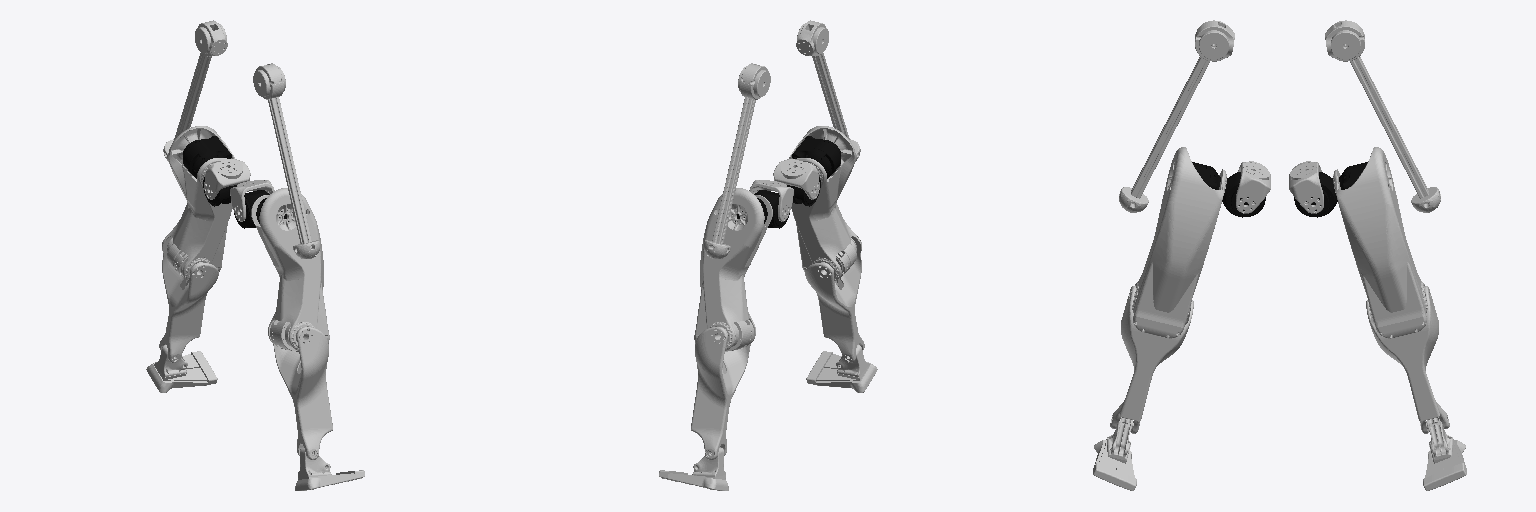
--- What the picture shows (computed from the rendered views, not written in the file) ---
Views: 3 orthographic renders of the robot side by side, from view 1: azimuth 30°, elevation 25°; view 2: azimuth 150°, elevation 25°; view 3: azimuth 270°, elevation 25°.
Robot: nimbro_new — 45 links, 44 joints (36 continuous, 8 fixed); root link trunk_link; default pose: all joints at 0.
Links seen in each view (by area): view 1: parallel_right_thigh_front_link, parallel_left_thigh_front_link, parallel_right_shank_front_link, parallel_left_shank_front_link, right_shoulder_pitch_link, left_shoulder_pitch_link, parallel_left_ankle_link, left_hip_roll_link, parallel_right_ankle_link, left_hip_yaw_link, right_hip_yaw_link; view 2: parallel_left_thigh_front_link, parallel_right_thigh_front_link, parallel_left_shank_front_link, parallel_right_shank_front_link, left_shoulder_pitch_link, right_shoulder_pitch_link, parallel_right_ankle_link, right_hip_roll_link, parallel_left_ankle_link, right_hip_yaw_link, left_hip_yaw_link; view 3: parallel_right_thigh_front_link, parallel_left_thigh_front_link, parallel_right_shank_front_link, parallel_left_shank_front_link, right_shoulder_pitch_link, left_shoulder_pitch_link, parallel_right_ankle_link, parallel_left_ankle_link, right_hip_yaw_link, left_hip_yaw_link, right_hip_roll_link, left_hip_roll_link.
Link boxes in pixels (x1,y1,x2,y2): parallel_right_thigh_front_link: [251, 188, 328, 350]; parallel_left_thigh_front_link: [162, 126, 234, 280]; parallel_right_shank_front_link: [273, 327, 332, 459]; parallel_left_shank_front_link: [159, 238, 221, 362]; right_shoulder_pitch_link: [253, 63, 319, 258]; left_shoulder_pitch_link: [163, 20, 227, 161]; parallel_left_ankle_link: [146, 345, 217, 392]; left_hip_roll_link: [183, 136, 236, 206]; parallel_right_ankle_link: [295, 447, 364, 490]; left_hip_yaw_link: [204, 159, 250, 199]; right_hip_yaw_link: [230, 180, 274, 221]; parallel_left_thigh_front_link: [695, 188, 772, 350]; parallel_right_thigh_front_link: [789, 126, 861, 280]; parallel_left_shank_front_link: [691, 327, 750, 459]; parallel_right_shank_front_link: [802, 238, 864, 362]; left_shoulder_pitch_link: [704, 63, 770, 258]; right_shoulder_pitch_link: [796, 20, 860, 161]; parallel_right_ankle_link: [806, 345, 877, 392]; right_hip_roll_link: [787, 136, 840, 206]; parallel_left_ankle_link: [659, 447, 728, 490]; right_hip_yaw_link: [773, 159, 819, 199]; left_hip_yaw_link: [749, 180, 793, 221]; parallel_right_thigh_front_link: [1132, 147, 1226, 327]; parallel_left_thigh_front_link: [1333, 147, 1427, 327]; parallel_right_shank_front_link: [1110, 286, 1193, 433]; parallel_left_shank_front_link: [1366, 286, 1449, 433]; right_shoulder_pitch_link: [1119, 20, 1234, 212]; left_shoulder_pitch_link: [1325, 20, 1440, 212]; parallel_right_ankle_link: [1093, 417, 1136, 490]; parallel_left_ankle_link: [1423, 417, 1466, 490]; right_hip_yaw_link: [1236, 161, 1270, 213]; left_hip_yaw_link: [1289, 161, 1323, 213]; right_hip_roll_link: [1192, 162, 1265, 217]; left_hip_roll_link: [1294, 162, 1367, 217].
Bounding box of the posed robot: 0.174 × 0.7334 × 0.9643 m (x, y, z).
14 mesh visuals loaded from 8 distinct referenced files (7 binary STL); not drawn: 1 (reference not matched to a file when rendering).

robot.urdf — nimbro_new:
<?xml version="1.0" ?>
<!-- =================================================================================== -->
<!-- |    This document was autogenerated by xacro from nimbro_new.xacro               | -->
<!-- |    EDITING THIS FILE BY HAND IS NOT RECOMMENDED                                 | -->
<!-- =================================================================================== -->
<robot name="nimbro_new">
  <!-- Materials -->
  <material name="black">
    <color rgba="0.1 0.1 0.1 1"/>
  </material>
  <material name="white">
    <color rgba="0.8 0.8 0.8 1"/>
  </material>
  <material name="clear">
    <color rgba="1.0 1.0 1.0 0.0"/>
  </material>
  <material name="orange">
    <color rgba="1.0 0.4235294117647059 0.0392156862745098 1.0"/>
  </material>
  <!-- Joints and links -->
  <link name="trunk_link">
    <inertial>
      <origin rpy="0 0 0" xyz="-0.02658535 0 0.14500787"/>
      <mass value="5.20047716"/>
      <inertia ixx="0.07326504" ixy="0.0" ixz="0.0" iyy="0.07407370" iyz="0.0" izz="0.02367380"/>
    </inertial>
    <visual>
      <origin rpy="0 0 0 " xyz="0 0 0"/>
      <geometry>
        <mesh filename="package://nimbro_op_model/mesh/nimbro_new/trunk_link.STL"/>
      </geometry>
      <material name="white"/>
    </visual>
    <collision>
      <origin rpy="0 0 0" xyz="0 0 0"/>
      <geometry>
        <mesh filename="package://nimbro_op_model/mesh/nimbro_new/trunk_link.STL"/>
      </geometry>
    </collision>
  </link>
  <link name="right_hip_yaw_link">
    <inertial>
      <origin rpy="0 0 0" xyz="0 0.00724195 -0.02181654"/>
      <mass value="0.08195131"/>
      <inertia ixx="0.00005602" ixy="0.0" ixz="-0.00000001" iyy="0.00011377" iyz="0.00000334" izz="0.00010391"/>
    </inertial>
    <visual>
      <origin rpy="0 0 0" xyz="0 0 0"/>
      <geometry>
        <mesh filename="package://nimbro_op_model/mesh/nimbro_new/left_hip_yaw_link.STL" scale="1.0 -1.0 1.0"/>
      </geometry>
      <material name="white"/>
    </visual>
    <collision>
      <origin rpy="0 0 0" xyz="0 0 0"/>
      <geometry>
        <mesh filename="package://nimbro_op_model/mesh/nimbro_new/left_hip_yaw_link.STL" scale="1.0 -1.0 1.0"/>
      </geometry>
    </collision>
  </link>
  <joint name="right_hip_yaw" type="continuous">
    <origin rpy="-0.261799388 0 0" xyz="0 -0.051355805 -0.01071788"/>
    <parent link="trunk_link"/>
    <child link="right_hip_yaw_link"/>
    <axis xyz="0 0 1"/>
  </joint>
  <link name="right_hip_roll_link">
    <inertial>
      <origin rpy="0 0 0" xyz="0.00076574 -0.05251558 0.00065619"/>
      <mass value="1.43634161"/>
      <inertia ixx="0.00462564" ixy="-0.00008808" ixz="-0.00001887" iyy="0.00094964" iyz="0.00002958" izz="0.00464908"/>
    </inertial>
    <visual>
      <origin rpy="0 0 0" xyz="0 0 0"/>
      <geometry>
        <mesh filename="package://nimbro_op_model/mesh/nimbro_new/left_hip_link.STL" scale="1.0 -1.0 1.0"/>
      </geometry>
      <material name="black"/>
    </visual>
    <collision>
      <origin rpy="0 0 0" xyz="0 0 0"/>
      <geometry>
        <mesh filename="package://nimbro_op_model/mesh/nimbro_new/left_hip_link.STL" scale="1.0 -1.0 1.0"/>
      </geometry>
    </collision>
  </link>
  <joint name="right_hip_roll" type="continuous">
    <origin rpy="0 0 0" xyz="0 0 -0.057408771126"/>
    <parent link="right_hip_yaw_link"/>
    <child link="right_hip_roll_link"/>
    <axis xyz="1 0 0"/>
  </joint>
  <link name="right_thigh_link">
    <inertial>
      <origin rpy="0 0 0" xyz="0.01970977 0.00209924 -0.12743050"/>
      <mass value="0.45418350"/>
      <inertia ixx="0.00608556" ixy="-0.00000866" ixz="0.00001934" iyy="0.00585037" iyz="-0.00010098" izz="0.00141334"/>
    </inertial>
    <!-- Use parallel link visuals<visual>
				<origin xyz="0 0 0" rpy="0 0 0" />
				<geometry>
					<mesh filename="package://nimbro_op_model/mesh/${display_variant}/right_thigh_link.STL" />
				</geometry>
				<material name="white" />
			</visual>-->
    <collision>
      <origin rpy="0 0 0" xyz="0 0 0"/>
      <geometry>
        <mesh filename="package://nimbro_op_model/mesh/nimbro_new/left_thigh_link.STL" scale="1.0 -1.0 1.0"/>
      </geometry>
    </collision>
  </link>
  <joint name="right_hip_pitch" type="continuous">
    <origin rpy="0 0 0" xyz="-0.00255 -0.1014 0"/>
    <parent link="right_hip_roll_link"/>
    <child link="right_thigh_link"/>
    <axis xyz="0 1 0"/>
  </joint>
  <link name="right_shank_link">
    <inertial>
      <origin rpy="0 0 0" xyz="0.01748220 0.00011553 -0.10458745"/>
      <mass value="0.31908091"/>
      <inertia ixx="0.00321630" ixy="-0.00000043" ixz="-0.00009814" iyy="0.00296736" iyz="-0.00000589" izz="0.00064089"/>
    </inertial>
    <!-- Use parallel link visuals<visual>
				<origin xyz="0 0 0" rpy="0 0 0" />
				<geometry>
					<mesh filename="package://nimbro_op_model/mesh/${display_variant}/right_shank_link.STL" />
				</geometry>
				<material name="white" />
			</visual>-->
    <collision>
      <origin rpy="0 0 0" xyz="0 0 0"/>
      <geometry>
        <mesh filename="package://nimbro_op_model/mesh/nimbro_new/left_shank_link.STL" scale="1.0 -1.0 1.0"/>
      </geometry>
    </collision>
  </link>
  <joint name="right_knee_pitch" type="continuous">
    <origin rpy="0 0 0" xyz="0 0 -0.27"/>
    <parent link="right_thigh_link"/>
    <child link="right_shank_link"/>
    <axis xyz="0 1 0"/>
  </joint>
  <link name="right_ankle_link">
    <inertial>
      <origin rpy="0 0 0" xyz="0.02809098 -0.00090749 -0.06129945"/>
      <mass value="0.27529515"/>
      <inertia ixx="0.00020315" ixy="0.00000109" ixz="0.00008239" iyy="0.00050134" iyz="0.00001126" izz="0.00049365"/>
    </inertial>
    <!-- Use parallel link visuals<visual>
				<origin xyz="0 0 0" rpy="0 0 0" />
				<geometry>
					<mesh filename="package://nimbro_op_model/mesh/${display_variant}/right_ankle_link.STL" />
				</geometry>
				<material name="white" />
			</visual>-->
    <collision>
      <origin rpy="0 0 0" xyz="0 0 0"/>
      <geometry>
        <mesh filename="package://nimbro_op_model/mesh/nimbro_new/left_ankle_link.STL" scale="1.0 -1.0 1.0"/>
      </geometry>
    </collision>
  </link>
  <joint name="right_ankle_pitch" type="continuous">
    <origin rpy="0 0 0" xyz="0 0 -0.27"/>
    <parent link="right_shank_link"/>
    <child link="right_ankle_link"/>
    <axis xyz="0 1 0"/>
  </joint>
  <link name="right_foot_link">
		</link>
  <joint name="right_ankle_roll" type="continuous">
    <origin rpy="0 0 0" xyz="0 0 0"/>
    <parent link="right_ankle_link"/>
    <child link="right_foot_link"/>
    <axis xyz="1 0 0"/>
  </joint>
  <link name="right_foot_plane_link">
		</link>
  <joint name="right_foot_plane_joint" type="fixed">
    <origin rpy="0 0 0" xyz="0.04562 0 -0.055"/>
    <parent link="right_foot_link"/>
    <child link="right_foot_plane_link"/>
  </joint>
  <link name="left_hip_yaw_link">
    <inertial>
      <origin rpy="0 0 0" xyz="0 -0.00724195 -0.02181654"/>
      <mass value="0.08195131"/>
      <inertia ixx="0.00005602" ixy="0.0" ixz="-0.00000001" iyy="0.00011377" iyz="0.00000334" izz="0.00010391"/>
    </inertial>
    <visual>
      <origin rpy="0 0 0" xyz="0 0 0"/>
      <geometry>
        <mesh filename="package://nimbro_op_model/mesh/nimbro_new/left_hip_yaw_link.STL"/>
      </geometry>
      <material name="white"/>
    </visual>
    <collision>
      <origin rpy="0 0 0" xyz="0 0 0"/>
      <geometry>
        <mesh filename="package://nimbro_op_model/mesh/nimbro_new/left_hip_yaw_link.STL"/>
      </geometry>
    </collision>
  </link>
  <joint name="left_hip_yaw" type="continuous">
    <origin rpy="0.261799388 0 0" xyz="0 0.051355805 -0.01071788"/>
    <parent link="trunk_link"/>
    <child link="left_hip_yaw_link"/>
    <axis xyz="0 0 1"/>
  </joint>
  <link name="left_hip_roll_link">
    <inertial>
      <origin rpy="0 0 0" xyz="0.00076574 0.05251558 0.00065619"/>
      <mass value="1.43634161"/>
      <inertia ixx="0.00462564" ixy="0.00008808" ixz="-0.00001887" iyy="0.00094964" iyz="-0.00002958" izz="0.00464908"/>
    </inertial>
    <visual>
      <origin rpy="0 0 0" xyz="0 0 0"/>
      <geometry>
        <mesh filename="package://nimbro_op_model/mesh/nimbro_new/left_hip_link.STL"/>
      </geometry>
      <material name="black"/>
    </visual>
    <collision>
      <origin rpy="0 0 0" xyz="0 0 0"/>
      <geometry>
        <mesh filename="package://nimbro_op_model/mesh/nimbro_new/left_hip_link.STL"/>
      </geometry>
    </collision>
  </link>
  <joint name="left_hip_roll" type="continuous">
    <origin rpy="0 0 0" xyz="0 0 -0.057408771126"/>
    <parent link="left_hip_yaw_link"/>
    <child link="left_hip_roll_link"/>
    <axis xyz="1 0 0"/>
  </joint>
  <link name="left_thigh_link">
    <inertial>
      <origin rpy="0 0 0" xyz="0.01970977 -0.00209924 -0.12743050"/>
      <mass value="0.45418350"/>
      <inertia ixx="0.00608556" ixy="0.00000866" ixz="-0.00001934" iyy="0.00585037" iyz="0.00010098" izz="0.00141334"/>
    </inertial>
    <!-- Use parallel link visuals<visual>
				<origin xyz="0 0 0" rpy="0 0 0" />
				<geometry>
					<mesh filename="package://nimbro_op_model/mesh/${display_variant}/left_thigh_link.STL" />
				</geometry>
				<material name="white" />
			</visual>-->
    <collision>
      <origin rpy="0 0 0" xyz="0 0 0"/>
      <geometry>
        <mesh filename="package://nimbro_op_model/mesh/nimbro_new/left_thigh_link.STL"/>
      </geometry>
    </collision>
  </link>
  <joint name="left_hip_pitch" type="continuous">
    <origin rpy="0 0 0" xyz="-0.00255 0.1014 0"/>
    <parent link="left_hip_roll_link"/>
    <child link="left_thigh_link"/>
    <axis xyz="0 1 0"/>
  </joint>
  <link name="left_shank_link">
    <inertial>
      <origin rpy="0 0 0" xyz="0.01748220 -0.00011553 -0.10458745"/>
      <mass value="0.31908091"/>
      <inertia ixx="0.00321630" ixy="-0.00000043" ixz="-0.00009814" iyy="0.00296736" iyz="-0.00000589" izz="0.00064089"/>
    </inertial>
    <!-- Use parallel link visuals<visual>
				<origin xyz="0 0 0" rpy="0 0 0" />
				<geometry>
					<mesh filename="package://nimbro_op_model/mesh/${display_variant}/left_shank_link.STL" />
				</geometry>
				<material name="white" />
			</visual>-->
    <collision>
      <origin rpy="0 0 0" xyz="0 0 0"/>
      <geometry>
        <mesh filename="package://nimbro_op_model/mesh/nimbro_new/left_shank_link.STL"/>
      </geometry>
    </collision>
  </link>
  <joint name="left_knee_pitch" type="continuous">
    <origin rpy="0 0 0" xyz="0 0 -0.27"/>
    <parent link="left_thigh_link"/>
    <child link="left_shank_link"/>
    <axis xyz="0 1 0"/>
  </joint>
  <link name="left_ankle_link">
    <inertial>
      <origin rpy="0 0 0" xyz="0.02809098 0.00090749 -0.06129945"/>
      <mass value="0.27529515"/>
      <inertia ixx="0.00020316" ixy="-0.00000124" ixz="0.00008239" iyy="0.00050134" iyz="-0.00001107" izz="0.00049366"/>
    </inertial>
    <!-- Use parallel link visuals<visual>
				<origin xyz="0 0 0" rpy="0 0 0" />
				<geometry>
					<mesh filename="package://nimbro_op_model/mesh/${display_variant}/left_ankle_link.STL" />
				</geometry>
				<material name="white" />
			</visual>-->
    <collision>
      <origin rpy="0 0 0" xyz="0 0 0"/>
      <geometry>
        <mesh filename="package://nimbro_op_model/mesh/nimbro_new/left_ankle_link.STL"/>
      </geometry>
    </collision>
  </link>
  <joint name="left_ankle_pitch" type="continuous">
    <origin rpy="0 0 0" xyz="0 0 -0.27"/>
    <parent link="left_shank_link"/>
    <child link="left_ankle_link"/>
    <axis xyz="0 1 0"/>
  </joint>
  <link name="left_foot_link">
		</link>
  <joint name="left_ankle_roll" type="continuous">
    <origin rpy="0 0 0" xyz="0 0 0"/>
    <parent link="left_ankle_link"/>
    <child link="left_foot_link"/>
    <axis xyz="1 0 0"/>
  </joint>
  <link name="left_foot_plane_link">
		</link>
  <joint name="left_foot_plane_joint" type="fixed">
    <origin rpy="0 0 0" xyz="0.04562 0 -0.055"/>
    <parent link="left_foot_link"/>
    <child link="left_foot_plane_link"/>
  </joint>
  <!-- **************** RIGHT ARM **************** -->
  <link name="right_shoulder_pitch_link">
    <inertial>
      <origin rpy="0 0 0" xyz="0.00165563 -0.07432328 -0.13752631"/>
      <mass value="0.04859780"/>
      <inertia ixx="0.00944004" ixy="0.00000012" ixz="0.00000046" iyy="0.00877735" iyz="-0.00233820" izz="0.00076229"/>
    </inertial>
    <visual>
      <origin rpy="0 0 0" xyz="0 0 0"/>
      <geometry>
        <mesh filename="package://nimbro_op_model/mesh/nimbro_new/left_shoulder_link.STL" scale="1.0 -1.0 1.0"/>
      </geometry>
      <material name="white"/>
    </visual>
    <collision>
      <origin rpy="0 0 0" xyz="0 0 0"/>
      <geometry>
        <mesh filename="package://nimbro_op_model/mesh/nimbro_new/left_shoulder_link.STL" scale="1.0 -1.0 1.0"/>
      </geometry>
    </collision>
  </link>
  <joint name="right_shoulder_pitch" type="continuous">
    <origin rpy="-0.174532925 0 0" xyz="0 -0.09177824488 0.26148499688"/>
    <parent link="trunk_link"/>
    <child link="right_shoulder_pitch_link"/>
    <axis xyz="0 1 0"/>
  </joint>
  <link name="right_upper_arm_link">
		</link>
  <joint name="right_shoulder_roll" type="continuous">
    <origin rpy="0 0 0" xyz="0 0 0"/>
    <parent link="right_shoulder_pitch_link"/>
    <child link="right_upper_arm_link"/>
    <axis xyz="1 0 0"/>
  </joint>
  <link name="right_lower_arm_link">
		</link>
  <joint name="right_elbow_pitch" type="continuous">
    <origin rpy="0 0 0" xyz="0 0 0"/>
    <parent link="right_upper_arm_link"/>
    <child link="right_lower_arm_link"/>
    <axis xyz="0 1 0"/>
  </joint>
  <link name="right_hand_eef_link">
		</link>
  <joint name="right_hand_eef_joint" type="fixed">
    <origin rpy="0 0 0" xyz="0.0 0.0 -0.25"/>
    <parent link="right_lower_arm_link"/>
    <child link="right_hand_eef_link"/>
  </joint>
  <!-- **************** LEFT ARM **************** -->
  <link name="left_shoulder_pitch_link">
    <inertial>
      <origin rpy="0 0 0" xyz="0.00165563 0.07432328 -0.13752631"/>
      <mass value="0.04859780"/>
      <inertia ixx="0.00943885" ixy="-0.00002743" ixz="0.00010178" iyy="0.00877735" iyz="0.00233804" izz="0.00076348"/>
    </inertial>
    <visual>
      <origin rpy="0 0 0" xyz="0 0 0"/>
      <geometry>
        <mesh filename="package://nimbro_op_model/mesh/nimbro_new/left_shoulder_link.STL"/>
      </geometry>
      <material name="white"/>
    </visual>
    <collision>
      <origin rpy="0 0 0" xyz="0 0 0"/>
      <geometry>
        <mesh filename="package://nimbro_op_model/mesh/nimbro_new/left_shoulder_link.STL"/>
      </geometry>
    </collision>
  </link>
  <joint name="left_shoulder_pitch" type="continuous">
    <origin rpy="0.174532925 0 0" xyz="0 0.09177824488 0.26148499688"/>
    <parent link="trunk_link"/>
    <child link="left_shoulder_pitch_link"/>
    <axis xyz="0 1 0"/>
  </joint>
  <link name="left_upper_arm_link">
		</link>
  <joint name="left_shoulder_roll" type="continuous">
    <origin rpy="0 0 0" xyz="0 0 0"/>
    <parent link="left_shoulder_pitch_link"/>
    <child link="left_upper_arm_link"/>
    <axis xyz="1 0 0"/>
  </joint>
  <link name="left_lower_arm_link">
		</link>
  <joint name="left_elbow_pitch" type="continuous">
    <origin rpy="0 0 0" xyz="0 0 0"/>
    <parent link="left_upper_arm_link"/>
    <child link="left_lower_arm_link"/>
    <axis xyz="0 1 0"/>
  </joint>
  <link name="left_hand_eef_link">
		</link>
  <joint name="left_hand_eef_joint" type="fixed">
    <origin rpy="0 0 0" xyz="0.0 0.0 -0.25"/>
    <parent link="left_lower_arm_link"/>
    <child link="left_hand_eef_link"/>
  </joint>
  <!-- **************** HEAD **************** -->
  <link name="neck_link">
		</link>
  <joint name="neck_yaw" type="continuous">
    <origin rpy="0 0 0" xyz="0.04 0 0.3098"/>
    <parent link="trunk_link"/>
    <child link="neck_link"/>
    <axis xyz="0 0 1"/>
  </joint>
  <link name="head_link">
		</link>
  <joint name="head_pitch" type="continuous">
    <origin rpy="0 0 0" xyz="0 0 0.04975"/>
    <parent link="neck_link"/>
    <child link="head_link"/>
    <axis xyz="0 1 0"/>
  </joint>
  <link name="camera_optical">
		</link>
  <joint name="camera_joint" type="fixed">
    <origin rpy="-1.7453292519943295 0 -1.5707963267948966" xyz="0.04488 -0.0375 0.08231"/>
    <parent link="head_link"/>
    <child link="camera_optical"/>
  </joint>
  <link name="camera_optical_1">
		</link>
  <joint name="camera_joint_1" type="fixed">
    <origin rpy="-1.7453292519943295 0 -1.5707963267948966" xyz="0.05374 0 0.09201"/>
    <parent link="head_link"/>
    <child link="camera_optical_1"/>
  </joint>
  <!-- Parallel Kinematics visuals only, begin in hip rolls-->
  <!-- Right Leg-->
  <joint name="parallel_right_thigh_pitch" type="continuous">
    <origin rpy="0 0 0" xyz="-0.00255 -0.1014 0"/>
    <parent link="right_hip_roll_link"/>
    <child link="parallel_right_thigh_front_link"/>
    <axis xyz="0 1 0"/>
  </joint>
  <link name="parallel_right_thigh_front_link">
    <visual>
      <origin rpy="0 0 0" xyz="0 0 0"/>
      <geometry>
        <mesh filename="package://nimbro_op_model/mesh/nimbro_new/left_thigh_link.STL" scale="1.0 -1.0 1.0"/>
      </geometry>
      <material name="white"/>
    </visual>
  </link>
  <joint name="parallel_right_thigh_pitch_mimic1" type="continuous">
    <origin rpy="0 0 0" xyz="0 0 -0.27"/>
    <parent link="parallel_right_thigh_front_link"/>
    <child link="parallel_right_knee_front_link"/>
    <axis xyz="0 1 0"/>
    <mimic joint="parallel_right_thigh_pitch" multiplier="-1" offset="0"/>
  </joint>
  <link name="parallel_right_knee_front_link">
    <visual>
      <origin rpy="0 0 0" xyz="0 0 0"/>
      <geometry>
        <mesh filename="package://nimbro_op_model/mesh/nimbro_new/left_knee_link.STL" scale="1.0 -1.0 1.0"/>
      </geometry>
      <material name="white"/>
    </visual>
  </link>
  <joint name="parallel_right_shank_pitch" type="continuous">
    <origin rpy="0 0 0" xyz="0 0 0"/>
    <parent link="parallel_right_knee_front_link"/>
    <child link="parallel_right_shank_front_link"/>
    <axis xyz="0 1 0"/>
  </joint>
  <link name="parallel_right_shank_front_link">
    <visual>
      <origin rpy="0 0 0" xyz="0 0 0"/>
      <geometry>
        <mesh filename="package://nimbro_op_model/mesh/nimbro_new/left_shank_link.STL" scale="1.0 -1.0 1.0"/>
      </geometry>
      <material name="white"/>
    </visual>
  </link>
  <joint name="parallel_right_shank_pitch_mimic1" type="continuous">
    <origin rpy="0 0 0" xyz="0 0 -0.27"/>
    <parent link="parallel_right_shank_front_link"/>
    <child link="parallel_right_ankle_link"/>
    <axis xyz="0 1 0"/>
    <mimic joint="parallel_right_shank_pitch" multiplier="-1" offset="0"/>
  </joint>
  <link name="parallel_right_ankle_link">
    <visual>
      <origin rpy="0 0 0" xyz="0 0 0"/>
      <geometry>
        <mesh filename="package://nimbro_op_model/mesh/nimbro_new/left_ankle_link.STL" scale="1.0 -1.0 1.0"/>
      </geometry>
      <material name="white"/>
    </visual>
  </link>
  <joint name="parallel_right_ankle_roll" type="continuous">
    <origin rpy="0 0 0" xyz="0 0 0"/>
    <parent link="parallel_right_ankle_link"/>
    <child link="parallel_right_foot_link"/>
    <axis xyz="1 0 0"/>
  </joint>
  <link name="parallel_right_foot_link">
		</link>
  <joint name="parallel_right_foot_plane_joint" type="fixed">
    <origin rpy="0 0 0" xyz="0.04562 0 -0.055"/>
    <parent link="parallel_right_foot_link"/>
    <child link="parallel_right_foot_plane_link"/>
  </joint>
  <link name="parallel_right_foot_plane_link">
		</link>
  <!-- back chain-->
  <joint name="parallel_right_thigh_pitch_mimic2" type="continuous">
    <origin rpy="0 0 0" xyz="-0.036 0 -0.04755"/>
    <parent link="right_hip_roll_link"/>
    <child link="parallel_right_thigh_back_link"/>
    <axis xyz="0 1 0"/>
    <mimic joint="parallel_right_thigh_pitch" multiplier="1" offset="0"/>
  </joint>
  <link name="parallel_right_thigh_back_link">

		</link>
  <joint name="parallel_right_thigh_pitch_mimic3" type="continuous">
    <origin rpy="0 0 0" xyz="0 0 -0.27"/>
    <parent link="parallel_right_thigh_back_link"/>
    <child link="parallel_right_knee_back_link"/>
    <axis xyz="0 1 0"/>
    <mimic joint="parallel_right_thigh_pitch" multiplier="-1" offset="0"/>
  </joint>
  <link name="parallel_right_knee_back_link">
		</link>
  <joint name="parallel_right_shank_pitch_mimic2" type="continuous">
    <origin rpy="0 0 0" xyz="0 0 -0.0485"/>
    <parent link="parallel_right_knee_back_link"/>
    <child link="parallel_right_shank_back_link"/>
    <axis xyz="0 1 0"/>
    <mimic joint="parallel_right_shank_pitch" multiplier="1" offset="0"/>
  </joint>
  <link name="parallel_right_shank_back_link">
        </link>
  <!-- Left Leg-->
  <!-- Parallel Kinematics visuals only, begin in hip rolls-->
  <!-- Right Leg-->
  <joint name="parallel_left_thigh_pitch" type="continuous">
    <origin rpy="0 0 0" xyz="-0.00255 0.1014 0"/>
    <parent link="left_hip_roll_link"/>
    <child link="parallel_left_thigh_front_link"/>
    <axis xyz="0 1 0"/>
  </joint>
  <link name="parallel_left_thigh_front_link">
    <visual>
      <origin rpy="0 0 0" xyz="0 0 0"/>
      <geometry>
        <mesh filename="package://nimbro_op_model/mesh/nimbro_new/left_thigh_link.STL"/>
      </geometry>
      <material name="white"/>
    </visual>
  </link>
  <joint name="parallel_left_thigh_pitch_mimic1" type="continuous">
    <origin rpy="0 0 0" xyz="0 0 -0.27"/>
    <parent link="parallel_left_thigh_front_link"/>
    <child link="parallel_left_knee_front_link"/>
    <axis xyz="0 1 0"/>
    <mimic joint="parallel_left_thigh_pitch" multiplier="-1" offset="0"/>
  </joint>
  <link name="parallel_left_knee_front_link">
    <visual>
      <origin rpy="0 0 0" xyz="0 0 0"/>
      <geometry>
        <mesh filename="package://nimbro_op_model/mesh/nimbro_new/left_knee_link.STL"/>
      </geometry>
      <material name="white"/>
    </visual>
  </link>
  <joint name="parallel_left_shank_pitch" type="continuous">
    <origin rpy="0 0 0" xyz="0 0 0"/>
    <parent link="parallel_left_knee_front_link"/>
    <child link="parallel_left_shank_front_link"/>
    <axis xyz="0 1 0"/>
  </joint>
  <link name="parallel_left_shank_front_link">
    <visual>
      <origin rpy="0 0 0" xyz="0 0 0"/>
      <geometry>
        <mesh filename="package://nimbro_op_model/mesh/nimbro_new/left_shank_link.STL"/>
      </geometry>
      <material name="white"/>
    </visual>
  </link>
  <joint name="parallel_left_shank_pitch_mimic1" type="continuous">
    <origin rpy="0 0 0" xyz="0 0 -0.27"/>
    <parent link="parallel_left_shank_front_link"/>
    <child link="parallel_left_ankle_link"/>
    <axis xyz="0 1 0"/>
    <mimic joint="parallel_left_shank_pitch" multiplier="-1" offset="0"/>
  </joint>
  <link name="parallel_left_ankle_link">
    <visual>
      <origin rpy="0 0 0" xyz="0 0 0"/>
      <geometry>
        <mesh filename="package://nimbro_op_model/mesh/nimbro_new/left_ankle_link.STL"/>
      </geometry>
      <material name="white"/>
    </visual>
  </link>
  <joint name="parallel_left_ankle_roll" type="continuous">
    <origin rpy="0 0 0" xyz="0 0 0"/>
    <axis xyz="1 0 0"/>
    <parent link="parallel_left_ankle_link"/>
    <child link="parallel_left_foot_link"/>
    <axis xyz="1 0 0"/>
  </joint>
  <link name="parallel_left_foot_link">
		</link>
  <joint name="parallel_left_foot_plane_joint" type="fixed">
    <origin rpy="0 0 0" xyz="0.04562 0 -0.055"/>
    <parent link="parallel_left_foot_link"/>
    <child link="parallel_left_foot_plane_link"/>
  </joint>
  <link name="parallel_left_foot_plane_link">
		</link>
  <!-- back chain-->
  <joint name="parallel_left_thigh_pitch_mimic2" type="continuous">
    <origin rpy="0 0 0" xyz="-0.036 0 -0.04755"/>
    <parent link="left_hip_roll_link"/>
    <child link="parallel_left_thigh_back_link"/>
    <axis xyz="0 1 0"/>
    <mimic joint="parallel_left_thigh_pitch" multiplier="1" offset="0"/>
  </joint>
  <link name="parallel_left_thigh_back_link">
		</link>
  <joint name="parallel_left_thigh_pitch_mimic3" type="continuous">
    <origin rpy="0 0 0" xyz="0 0 -0.26"/>
    <parent link="parallel_left_thigh_back_link"/>
    <child link="parallel_left_knee_back_link"/>
    <axis xyz="0 1 0"/>
    <mimic joint="parallel_left_thigh_pitch" multiplier="-1" offset="0"/>
  </joint>
  <link name="parallel_left_knee_back_link">
		</link>
  <joint name="parallel_left_shank_pitch_mimic2" type="continuous">
    <origin rpy="0 0 0" xyz="0 0 -0.0485"/>
    <parent link="parallel_left_knee_back_link"/>
    <child link="parallel_left_shank_back_link"/>
    <axis xyz="0 1 0"/>
    <mimic joint="parallel_left_shank_pitch" multiplier="1" offset="0"/>
  </joint>
  <link name="parallel_left_shank_back_link">
		</link>
  <!-- Transmissions -->
  <transmission name="right_hip_yaw_transmission">
    <type>transmission_interface/SimpleTransmission</type>
    <joint name="right_hip_yaw">
      <hardwareInterface>hardware_interface/EffortJointInterface</hardwareInterface>
    </joint>
    <actuator name="right_hip_yaw">
      <mechanicalReduction>1</mechanicalReduction>
    </actuator>
  </transmission>
  <transmission name="right_hip_roll_transmission">
    <type>transmission_interface/SimpleTransmission</type>
    <joint name="right_hip_roll">
      <hardwareInterface>hardware_interface/EffortJointInterface</hardwareInterface>
    </joint>
    <actuator name="right_hip_roll">
      <mechanicalReduction>1</mechanicalReduction>
    </actuator>
  </transmission>
  <transmission name="right_hip_pitch_transmission">
    <type>transmission_interface/SimpleTransmission</type>
    <joint name="right_hip_pitch">
      <hardwareInterface>hardware_interface/EffortJointInterface</hardwareInterface>
    </joint>
    <actuator name="right_hip_pitch">
      <mechanicalReduction>1</mechanicalReduction>
    </actuator>
  </transmission>
  <transmission name="right_knee_pitch_transmission">
    <type>transmission_interface/SimpleTransmission</type>
    <joint name="right_knee_pitch">
      <hardwareInterface>hardware_interface/EffortJointInterface</hardwareInterface>
    </joint>
    <actuator name="right_knee_pitch">
      <mechanicalReduction>1</mechanicalReduction>
    </actuator>
  </transmission>
  <transmission name="right_ankle_pitch_transmission">
    <type>transmission_interface/SimpleTransmission</type>
    <joint name="right_ankle_pitch">
      <hardwareInterface>hardware_interface/EffortJointInterface</hardwareInterface>
    </joint>
    <actuator name="right_ankle_pitch">
      <mechanicalReduction>1</mechanicalReduction>
    </actuator>
  </transmission>
  <transmission name="right_ankle_roll_transmission">
    <type>transmission_interface/SimpleTransmission</type>
    <joint name="right_ankle_roll">
      <hardwareInterface>hardware_interface/EffortJointInterface</hardwareInterface>
    </joint>
    <actuator name="right_ankle_roll">
      <mechanicalReduction>1</mechanicalReduction>
    </actuator>
  </transmission>
  <transmission name="parallel_right_thigh_pitch_transmission">
    <type>transmission_interface/SimpleTransmission</type>
    <joint name="parallel_right_thigh_pitch">
      <hardwareInterface>hardware_interface/EffortJointInterface</hardwareInterface>
    </joint>
    <actuator name="parallel_right_thigh_pitch">
      <mechanicalReduction>1</mechanicalReduction>
    </actuator>
  </transmission>
  <transmission name="parallel_right_shank_pitch_transmission">
    <type>transmission_interface/SimpleTransmission</type>
    <joint name="parallel_right_shank_pitch">
      <hardwareInterface>hardware_interface/EffortJointInterface</hardwareInterface>
    </joint>
    <actuator name="parallel_right_shank_pitch">
      <mechanicalReduction>1</mechanicalReduction>
    </actuator>
  </transmission>
  <transmission name="parallel_right_ankle_roll_transmission">
    <type>transmission_interface/SimpleTransmission</type>
    <joint name="parallel_right_ankle_roll">
      <hardwareInterface>hardware_interface/EffortJointInterface</hardwareInterface>
    </joint>
    <actuator name="parallel_right_ankle_roll">
      <mechanicalReduction>1</mechanicalReduction>
    </actuator>
  </transmission>
  <transmission name="left_hip_yaw_transmission">
    <type>transmission_interface/SimpleTransmission</type>
    <joint name="left_hip_yaw">
      <hardwareInterface>hardware_interface/EffortJointInterface</hardwareInterface>
    </joint>
    <actuator name="left_hip_yaw">
      <mechanicalReduction>1</mechanicalReduction>
    </actuator>
  </transmission>
  <transmission name="left_hip_roll_transmission">
    <type>transmission_interface/SimpleTransmission</type>
    <joint name="left_hip_roll">
      <hardwareInterface>hardware_interface/EffortJointInterface</hardwareInterface>
    </joint>
    <actuator name="left_hip_roll">
      <mechanicalReduction>1</mechanicalReduction>
    </actuator>
  </transmission>
  <transmission name="left_hip_pitch_transmission">
    <type>transmission_interface/SimpleTransmission</type>
    <joint name="left_hip_pitch">
      <hardwareInterface>hardware_interface/EffortJointInterface</hardwareInterface>
    </joint>
    <actuator name="left_hip_pitch">
      <mechanicalReduction>1</mechanicalReduction>
    </actuator>
  </transmission>
  <transmission name="left_knee_pitch_transmission">
    <type>transmission_interface/SimpleTransmission</type>
    <joint name="left_knee_pitch">
      <hardwareInterface>hardware_interface/EffortJointInterface</hardwareInterface>
    </joint>
    <actuator name="left_knee_pitch">
      <mechanicalReduction>1</mechanicalReduction>
    </actuator>
  </transmission>
  <transmission name="left_ankle_pitch_transmission">
    <type>transmission_interface/SimpleTransmission</type>
    <joint name="left_ankle_pitch">
      <hardwareInterface>hardware_interface/EffortJointInterface</hardwareInterface>
    </joint>
    <actuator name="left_ankle_pitch">
      <mechanicalReduction>1</mechanicalReduction>
    </actuator>
  </transmission>
  <transmission name="left_ankle_roll_transmission">
    <type>transmission_interface/SimpleTransmission</type>
    <joint name="left_ankle_roll">
      <hardwareInterface>hardware_interface/EffortJointInterface</hardwareInterface>
    </joint>
    <actuator name="left_ankle_roll">
      <mechanicalReduction>1</mechanicalReduction>
    </actuator>
  </transmission>
  <transmission name="parallel_left_thigh_pitch_transmission">
    <type>transmission_interface/SimpleTransmission</type>
    <joint name="parallel_left_thigh_pitch">
      <hardwareInterface>hardware_interface/EffortJointInterface</hardwareInterface>
    </joint>
    <actuator name="parallel_left_thigh_pitch">
      <mechanicalReduction>1</mechanicalReduction>
    </actuator>
  </transmission>
  <transmission name="parallel_left_shank_pitch_transmission">
    <type>transmission_interface/SimpleTransmission</type>
    <joint name="parallel_left_shank_pitch">
      <hardwareInterface>hardware_interface/EffortJointInterface</hardwareInterface>
    </joint>
    <actuator name="parallel_left_shank_pitch">
      <mechanicalReduction>1</mechanicalReduction>
    </actuator>
  </transmission>
  <transmission name="parallel_left_ankle_roll_transmission">
    <type>transmission_interface/SimpleTransmission</type>
    <joint name="parallel_left_ankle_roll">
      <hardwareInterface>hardware_interface/EffortJointInterface</hardwareInterface>
    </joint>
    <actuator name="parallel_left_ankle_roll">
      <mechanicalReduction>1</mechanicalReduction>
    </actuator>
  </transmission>
  <transmission name="right_shoulder_pitch_transmission">
    <type>transmission_interface/SimpleTransmission</type>
    <joint name="right_shoulder_pitch">
      <hardwareInterface>hardware_interface/EffortJointInterface</hardwareInterface>
    </joint>
    <actuator name="right_shoulder_pitch">
      <mechanicalReduction>1</mechanicalReduction>
    </actuator>
  </transmission>
  <transmission name="right_shoulder_roll_transmission">
    <type>transmission_interface/SimpleTransmission</type>
    <joint name="right_shoulder_roll">
      <hardwareInterface>hardware_interface/EffortJointInterface</hardwareInterface>
    </joint>
    <actuator name="right_shoulder_roll">
      <mechanicalReduction>1</mechanicalReduction>
    </actuator>
  </transmission>
  <transmission name="right_elbow_pitch_transmission">
    <type>transmission_interface/SimpleTransmission</type>
    <joint name="right_elbow_pitch">
      <hardwareInterface>hardware_interface/EffortJointInterface</hardwareInterface>
    </joint>
    <actuator name="right_elbow_pitch">
      <mechanicalReduction>1</mechanicalReduction>
    </actuator>
  </transmission>
  <transmission name="left_shoulder_pitch_transmission">
    <type>transmission_interface/SimpleTransmission</type>
    <joint name="left_shoulder_pitch">
      <hardwareInterface>hardware_interface/EffortJointInterface</hardwareInterface>
    </joint>
    <actuator name="left_shoulder_pitch">
      <mechanicalReduction>1</mechanicalReduction>
    </actuator>
  </transmission>
  <transmission name="left_shoulder_roll_transmission">
    <type>transmission_interface/SimpleTransmission</type>
    <joint name="left_shoulder_roll">
      <hardwareInterface>hardware_interface/EffortJointInterface</hardwareInterface>
    </joint>
    <actuator name="left_shoulder_roll">
      <mechanicalReduction>1</mechanicalReduction>
    </actuator>
  </transmission>
  <transmission name="left_elbow_pitch_transmission">
    <type>transmission_interface/SimpleTransmission</type>
    <joint name="left_elbow_pitch">
      <hardwareInterface>hardware_interface/EffortJointInterface</hardwareInterface>
    </joint>
    <actuator name="left_elbow_pitch">
      <mechanicalReduction>1</mechanicalReduction>
    </actuator>
  </transmission>
  <transmission name="neck_yaw_transmission">
    <type>transmission_interface/SimpleTransmission</type>
    <joint name="neck_yaw">
      <hardwareInterface>hardware_interface/EffortJointInterface</hardwareInterface>
    </joint>
    <actuator name="neck_yaw">
      <mechanicalReduction>1</mechanicalReduction>
    </actuator>
  </transmission>
  <transmission name="head_pitch_transmission">
    <type>transmission_interface/SimpleTransmission</type>
    <joint name="head_pitch">
      <hardwareInterface>hardware_interface/EffortJointInterface</hardwareInterface>
    </joint>
    <actuator name="head_pitch">
      <mechanicalReduction>1</mechanicalReduction>
    </actuator>
  </transmission>
  <!-- Gazebo configuration -->
  <gazebo>
    <plugin filename="libgazebo_ros_control.so" name="gazebo_ros_control">
      <robotNamespace>/nimbro_op</robotNamespace>
    </plugin>
  </gazebo>
  <!-- Gazebo links -->
  <gazebo reference="trunk_link">
    <material>Gazebo/White</material>
  </gazebo>
  <gazebo reference="left_hip_yaw_link">
    <material>Gazebo/White</material>
  </gazebo>
  <gazebo reference="left_hip_roll_link">
    <material>Gazebo/White</material>
  </gazebo>
  <gazebo reference="left_thigh_link">
    <material>Gazebo/White</material>
  </gazebo>
  <gazebo reference="left_shank_link">
    <material>Gazebo/White</material>
  </gazebo>
  <gazebo reference="left_ankle_link">
    <material>Gazebo/White</material>
  </gazebo>
  <gazebo reference="left_foot_link">
    <material>Gazebo/White</material>
    <kp>1000000.0</kp>
    <kd>100.0</kd>
    <mu1>1.0</mu1>
    <mu2>1.0</mu2>
    <fdir1>1 0 0</fdir1>
    <maxVel>1.0</maxVel>
    <minDepth>0.00</minDepth>
  </gazebo>
  <gazebo reference="left_shoulder_pitch_link">
    <material>Gazebo/White</material>
  </gazebo>
  <gazebo reference="right_hip_yaw_link">
    <material>Gazebo/White</material>
  </gazebo>
  <gazebo reference="right_hip_roll_link">
    <material>Gazebo/White</material>
  </gazebo>
  <gazebo reference="right_thigh_link">
    <material>Gazebo/White</material>
  </gazebo>
  <gazebo reference="right_shank_link">
    <material>Gazebo/White</material>
  </gazebo>
  <gazebo reference="right_ankle_link">
    <material>Gazebo/White</material>
  </gazebo>
  <gazebo reference="right_foot_link">
    <material>Gazebo/White</material>
    <kp>1000000.0</kp>
    <kd>100.0</kd>
    <mu1>1.0</mu1>
    <mu2>1.0</mu2>
    <fdir1>1 0 0</fdir1>
    <maxVel>1.0</maxVel>
    <minDepth>0.00</minDepth>
  </gazebo>
  <gazebo reference="right_shoulder_pitch_link">
    <material>Gazebo/White</material>
  </gazebo>
</robot>
